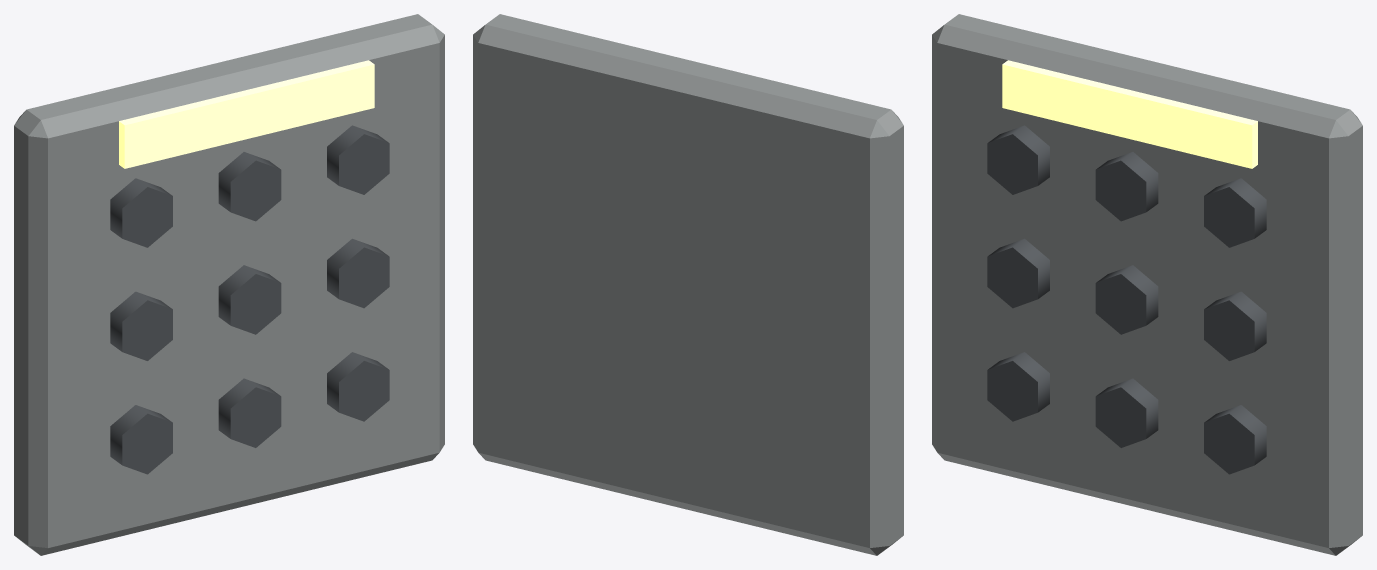
The model's file is trap_dart.glb.
The picture shows the model from 3 angles, left to right: view 1: azimuth 30°, elevation 25°; view 2: azimuth 150°, elevation 25°; view 3: azimuth 330°, elevation 25°; orthographic projection.
Visible parts, largest first — view 1: trap_dart; view 2: trap_dart; view 3: trap_dart.
Boxes of the visible parts, x1,y1,x2,y2 form: trap_dart: [14, 14, 444, 555]; trap_dart: [473, 14, 903, 555]; trap_dart: [932, 14, 1362, 555].
Bounding box in the file's own units: 0.5 × 0.5 × 0.085.
